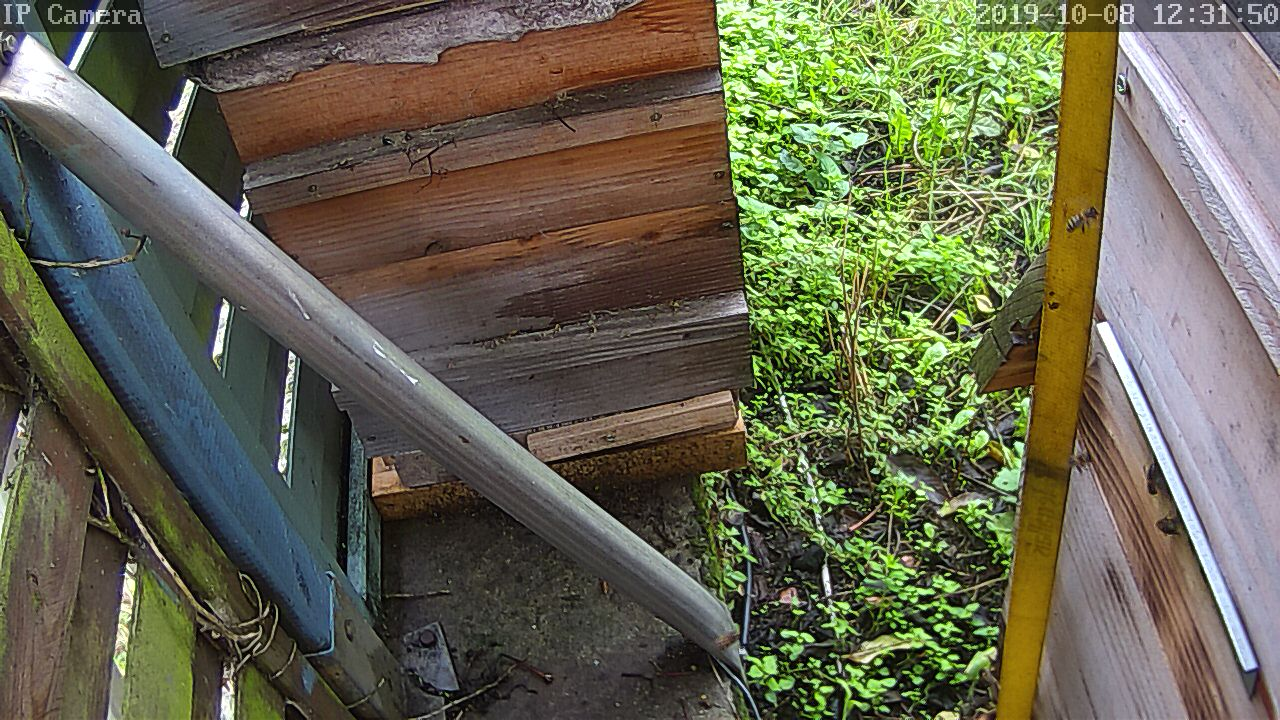bee: (1149, 510, 1188, 545), (1063, 203, 1102, 237), (1138, 461, 1164, 495)
